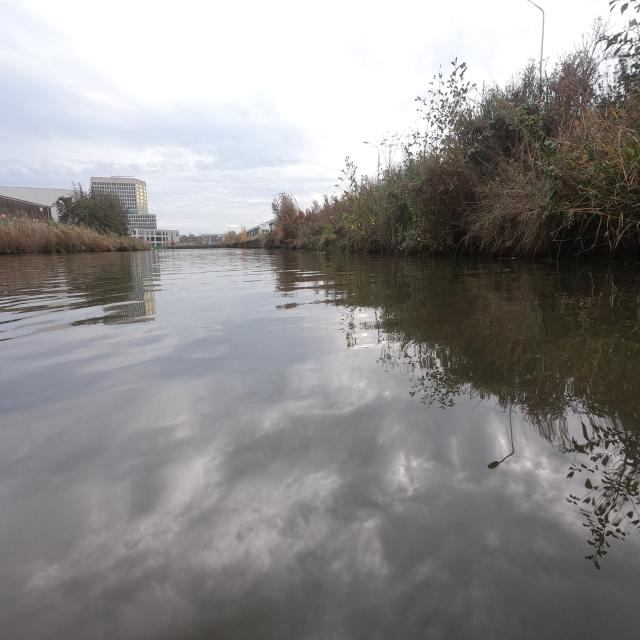reed: (272, 23, 640, 259), (2, 215, 145, 253)
sky: (1, 1, 608, 232)
water: (1, 247, 638, 639)
